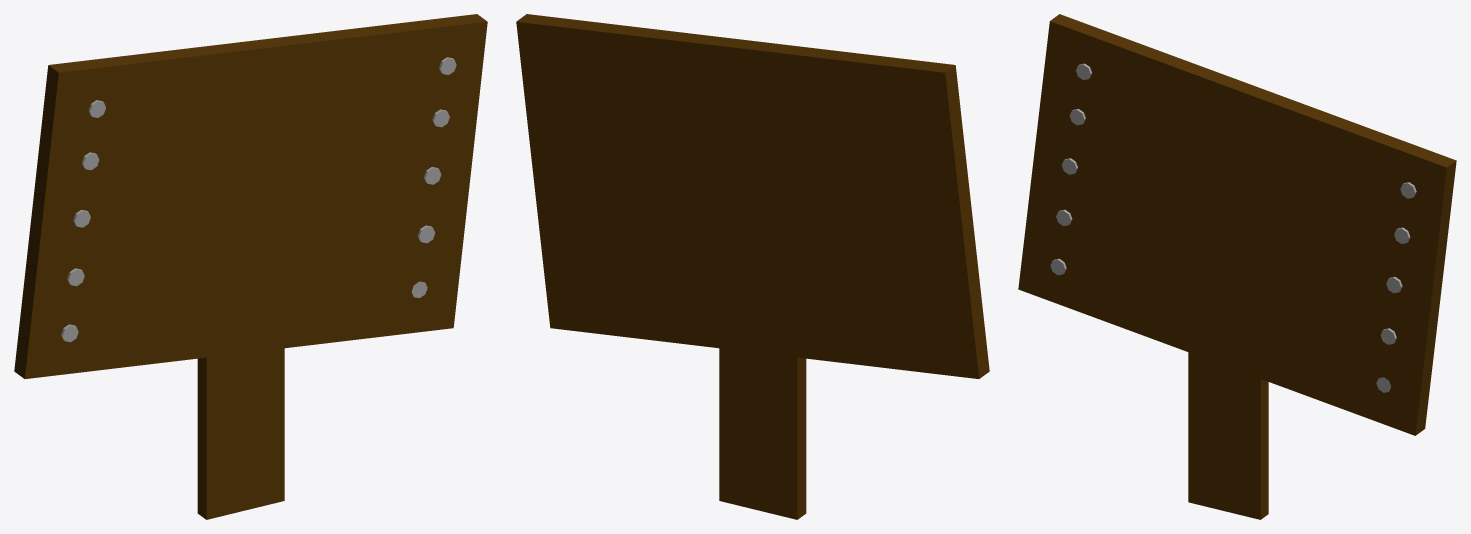
The model's file is cartello normale.fbx.
3 views of the same model, side by side, from view 1: azimuth 30°, elevation 25°; view 2: azimuth 150°, elevation 25°; view 3: azimuth 330°, elevation 25° (orthographic). The views are drawn at different scales.
Visible parts, largest first — view 1: pCube28; view 2: pCube28; view 3: pCube28.
Boxes of the visible parts, x1,y1,x2,y2 form: pCube28: (14, 14, 487, 519); pCube28: (516, 14, 989, 519); pCube28: (1018, 14, 1456, 519).
Bounding box in the file's own units: 5.12 × 5.12 × 0.233.
